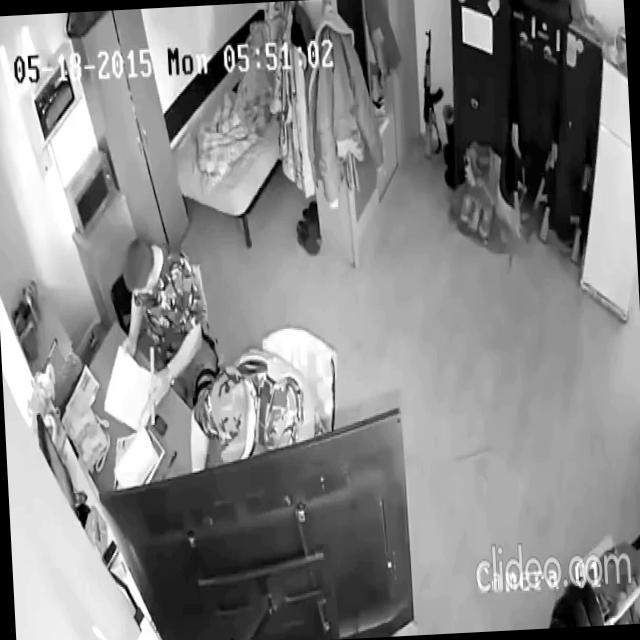gun: (530, 88, 572, 244), (562, 119, 603, 267), (503, 70, 538, 238), (417, 27, 448, 160)
person: (184, 338, 321, 476), (112, 232, 216, 413)
